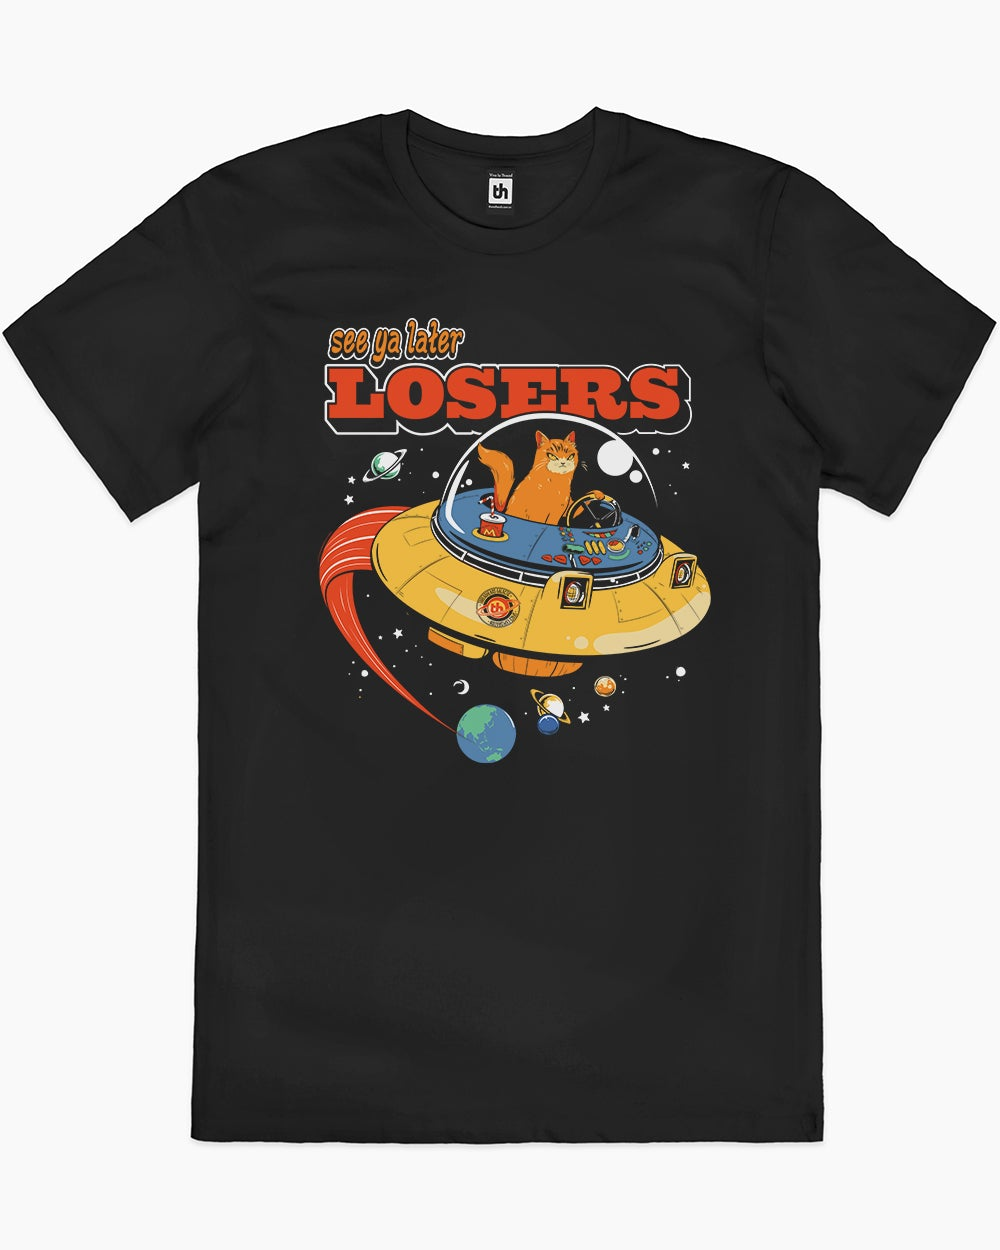design: (311, 311, 718, 772)
